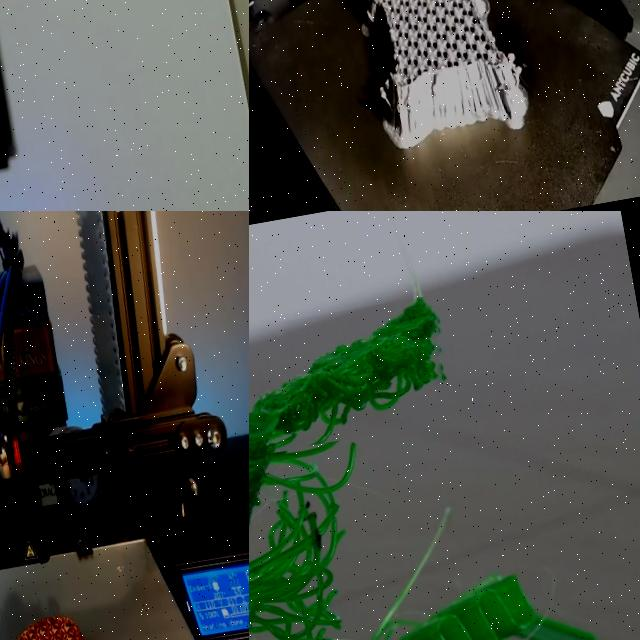spaghetti: (249, 297, 440, 456), (249, 508, 342, 640)
